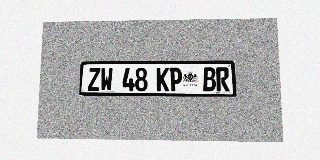4: (122, 68, 135, 91)
8: (135, 68, 148, 91)
B: (203, 67, 216, 91)
K: (156, 68, 169, 91)
P: (169, 67, 182, 91)
R: (216, 67, 229, 91)
W: (100, 68, 113, 91)
Z: (88, 68, 100, 91)
